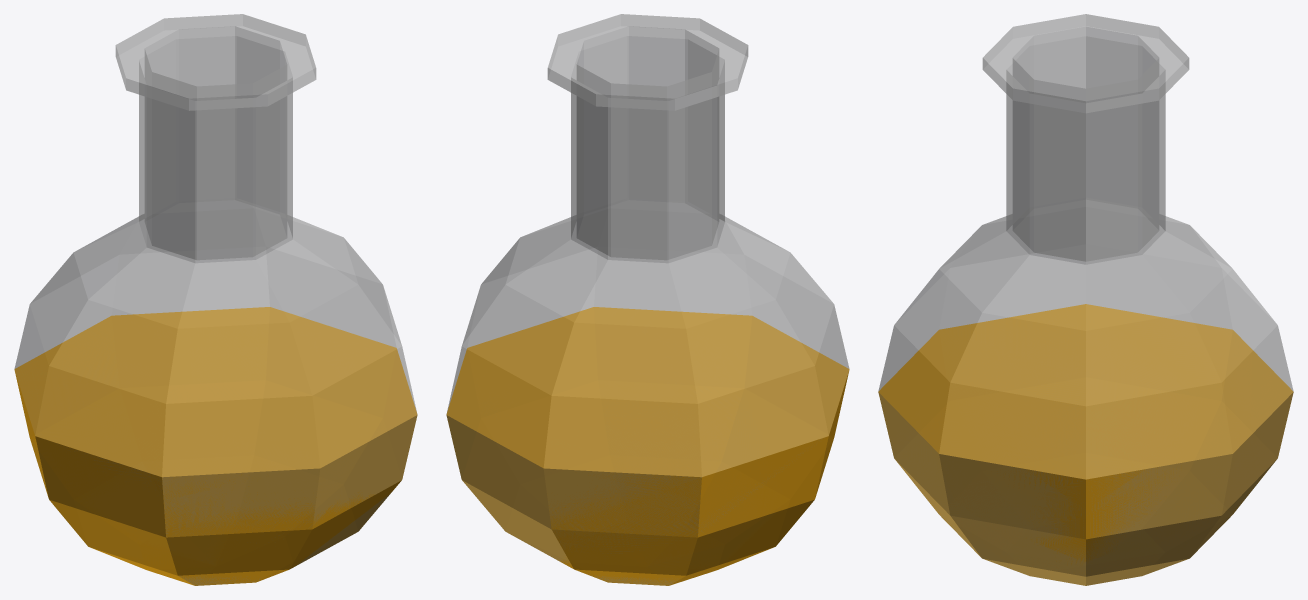
File: BallFlaskFull.fbx
3 renders of one model, left to right at view 1: azimuth 30°, elevation 25°; view 2: azimuth 150°, elevation 25°; view 3: azimuth 270°, elevation 25°, orthographic.
Parts seen in each view (by area): view 1: polySurface34, polySurface35; view 2: polySurface34, polySurface35; view 3: polySurface34, polySurface35.
Part boxes in pixels (x1=…): polySurface34: x1=14, y1=14, x2=417, y2=585; polySurface35: x1=14, y1=307, x2=417, y2=585; polySurface34: x1=446, y1=14, x2=849, y2=585; polySurface35: x1=446, y1=307, x2=849, y2=585; polySurface34: x1=878, y1=14, x2=1293, y2=585; polySurface35: x1=878, y1=304, x2=1293, y2=585.
Size of the model in its own units: 13.52 by 18.24 by 13.52.
